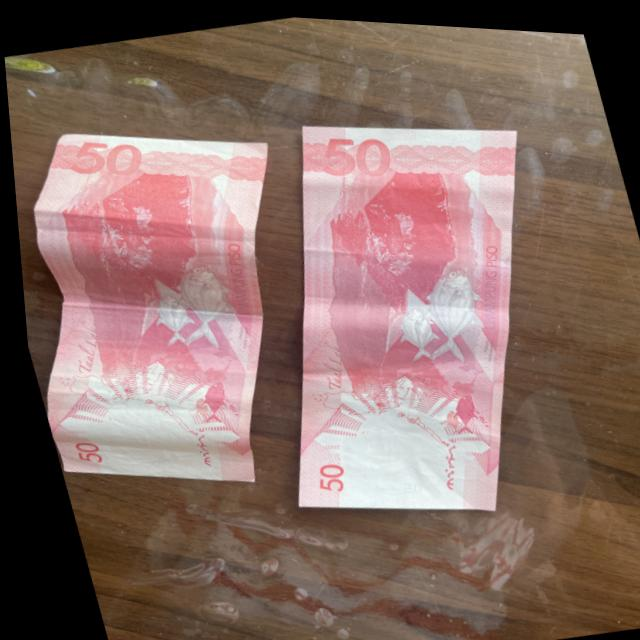50_maliputo: (370, 248, 492, 375), (122, 241, 245, 363)
50_maliputo_watermark: (169, 370, 232, 434), (422, 380, 484, 440)
watermark: (324, 409, 445, 504), (89, 394, 200, 475)
